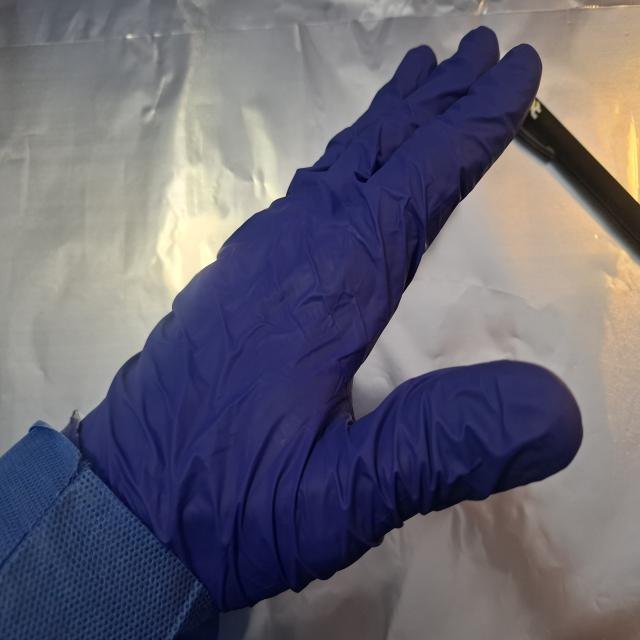glove_on: (58, 19, 587, 623)
